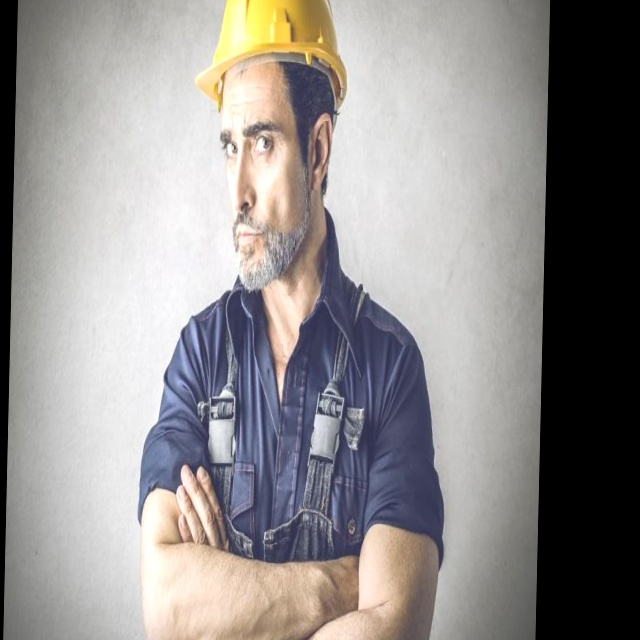Con_Casco: (192, 0, 351, 279)
Sin_Chaleco: (161, 285, 440, 640)
